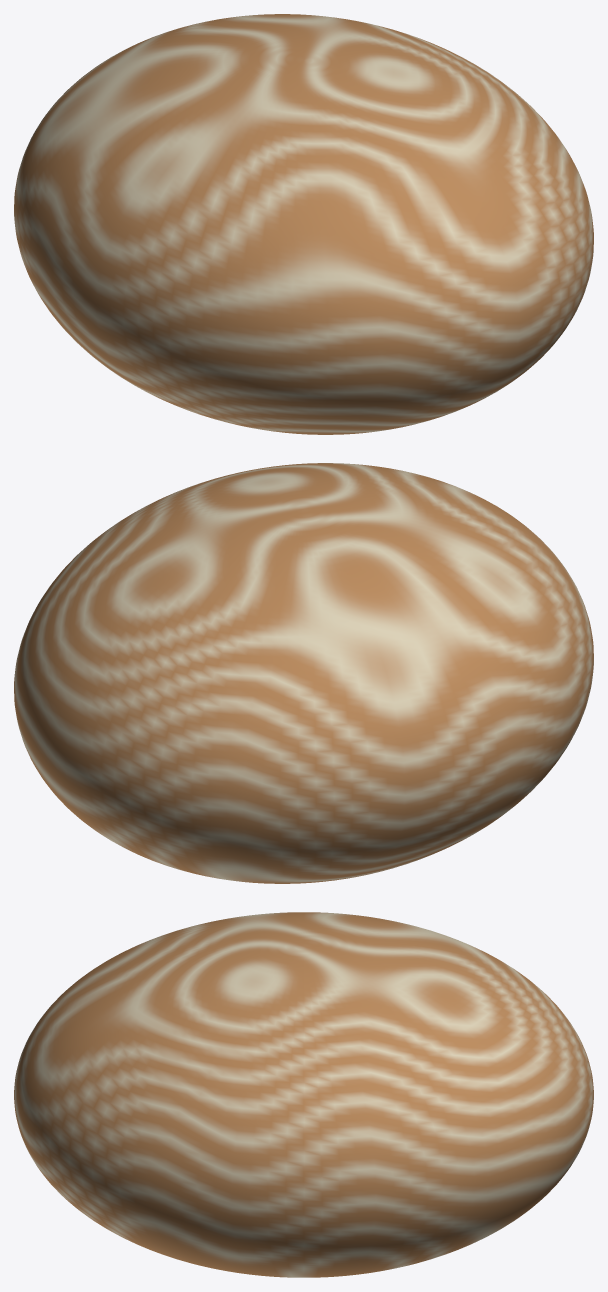
File: banded-agate.glb
The picture shows the model from 3 angles, top to bottom: view 1: azimuth 30°, elevation 25°; view 2: azimuth 150°, elevation 25°; view 3: azimuth 270°, elevation 25°; orthographic projection. The views are drawn at different scales.
Visible parts, largest first — view 1: banded-agate; view 2: banded-agate; view 3: banded-agate.
Boxes of the visible parts, x1,y1,x2,y2 form: banded-agate: (14, 14, 593, 434); banded-agate: (14, 463, 593, 883); banded-agate: (14, 912, 593, 1277).
Bounding box in the file's own units: 2.17 × 1.41 × 2.5.
